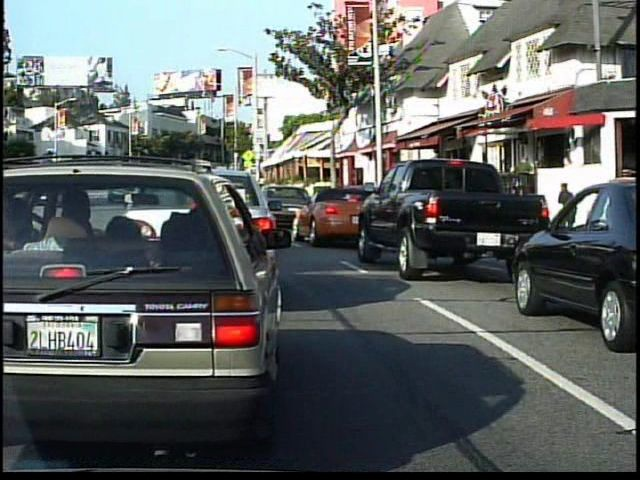person: (511, 149, 536, 203)
